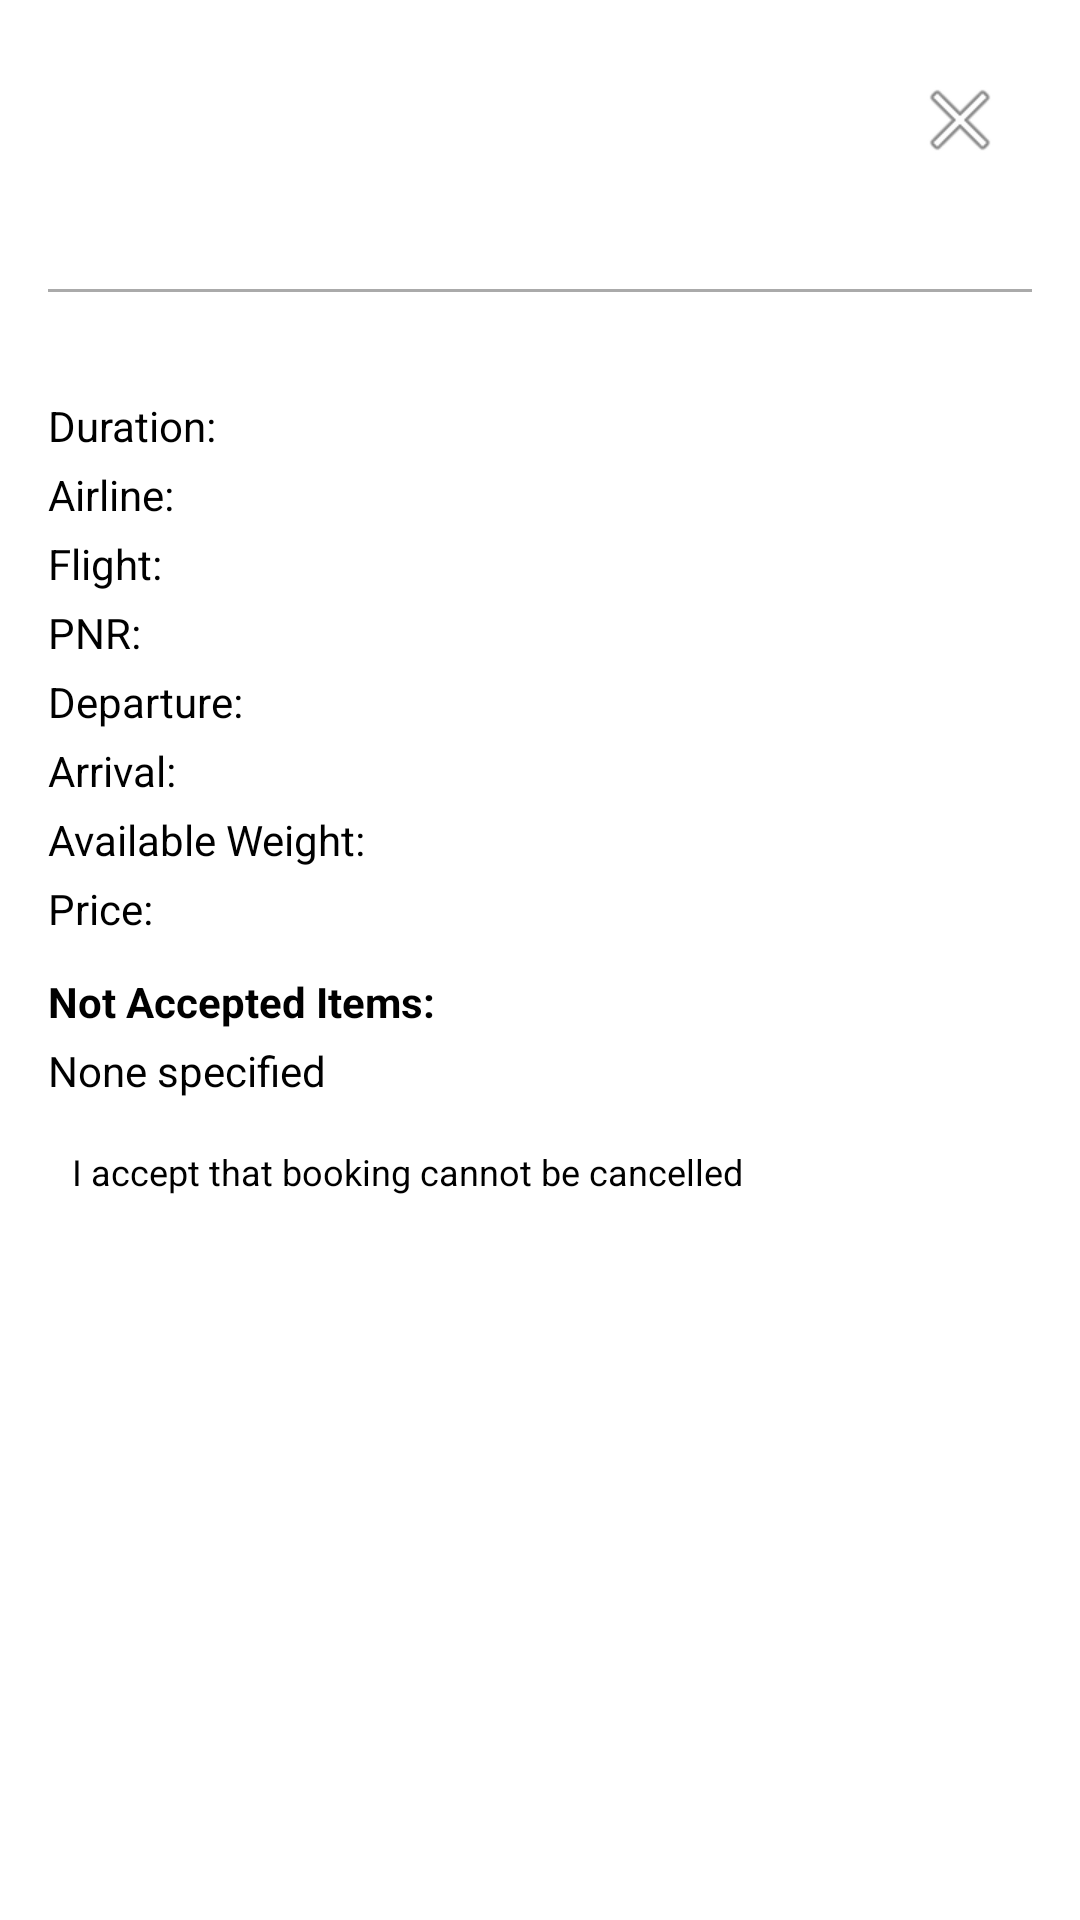

Named icons in this screenshot (1080 × 1920) and their centers, (x=x, y=y):
close clear cancel: (x=960, y=120)
